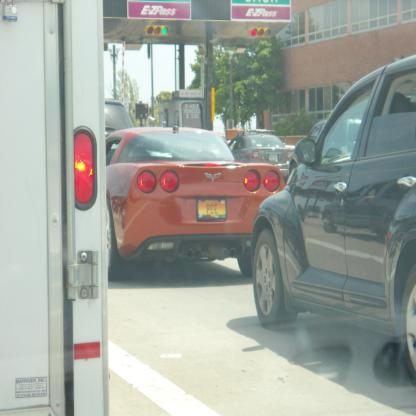Car: (251, 51, 415, 387), (106, 125, 286, 282), (229, 132, 294, 179)
